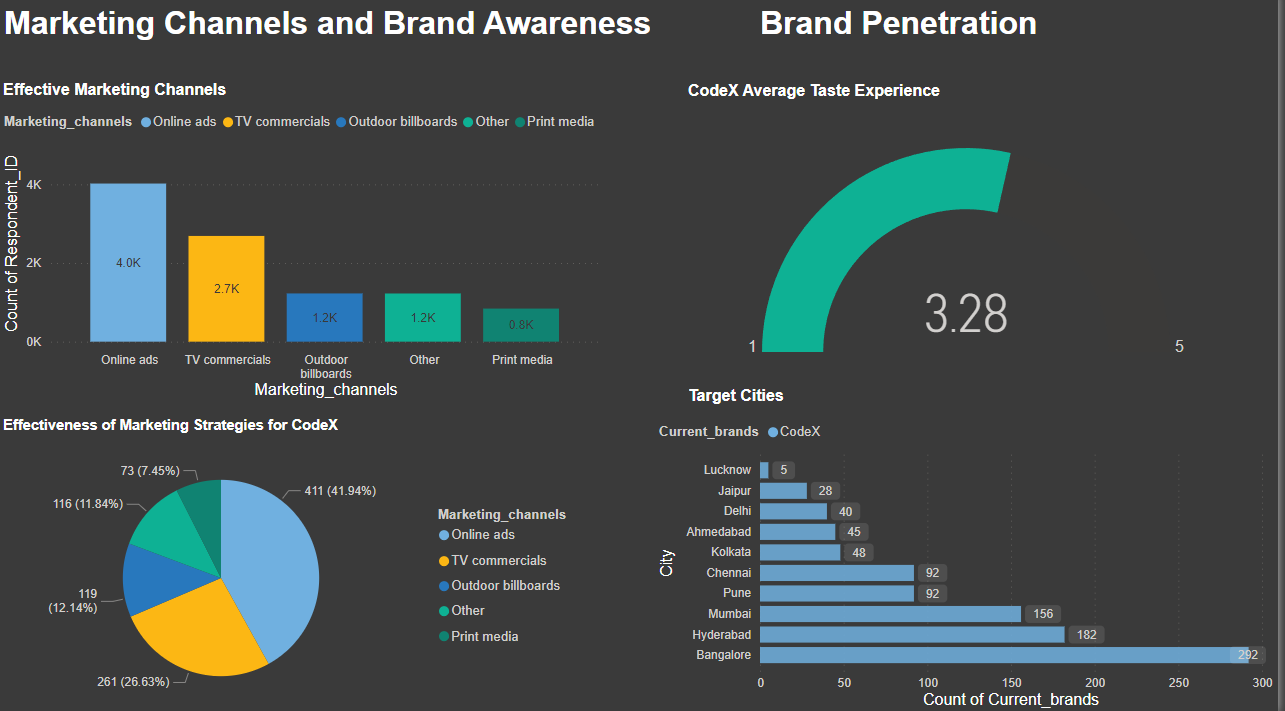

The dashboard page shown, as its layout file describes it:
{"tool":"powerbi","page":{"name":"Marketing Channels and Brand Awareness","canvas":[1280,720],"ordinal":2},"visuals":[{"type":"columnChart","fields":{"Category":["fact_survey_responses.Marketing_channels"],"Y":["CountNonNull(fact_survey_responses.Respondent_ID)"],"Series":["fact_survey_responses.Marketing_channels"]},"box":[1,109,607,301],"z":0},{"type":"pieChart","fields":{"Y":["CountNonNull(fact_survey_responses.Response_ID)"],"Category":["fact_survey_responses.Marketing_channels"]},"box":[1,450,586,270],"z":1000},{"type":"textbox","box":[1,7,670,61],"z":2000},{"type":"gauge","fields":{"MinValue":["Min(fact_survey_responses.Taste_experience)"],"MaxValue":["Max(fact_survey_responses.Taste_experience)1"],"Y":["Avg(fact_survey_responses.Taste_experience)2"]},"box":[731,150,474,219],"z":3000},{"type":"barChart","fields":{"Series":["fact_survey_responses.Current_brands"],"Category":["dim_cities.City","dim_cities.Tier"],"Y":["CountNonNull(fact_survey_responses.Current_brands)"]},"box":[656,419,624,301],"z":4000},{"type":"textbox","box":[757,7,470,53],"z":5000},{"type":"textbox","box":[685,389,300,38],"z":6000},{"type":"textbox","box":[0,83,264,35],"z":7000},{"type":"textbox","box":[0,419,412,31],"z":8000},{"type":"textbox","box":[685,84,300,34],"z":9000}]}

Visuals, with their boxes in screenshot pixels (x1, y1, x2, y2), scaled from the page's 1280x720 canvas onto the 1285x711 screenshot:
columnChart - fact_survey_responses.Marketing_channels x CountNonNull(fact_survey_responses.Respondent_ID): [left=1, top=108, right=610, bottom=405]
pieChart - CountNonNull(fact_survey_responses.Response_ID) x fact_survey_responses.Marketing_channels: [left=1, top=444, right=589, bottom=710]
textbox: [left=1, top=7, right=674, bottom=67]
gauge - Min(fact_survey_responses.Taste_experience) x Max(fact_survey_responses.Taste_experience)1: [left=734, top=148, right=1210, bottom=364]
barChart - fact_survey_responses.Current_brands x dim_cities.City: [left=659, top=414, right=1284, bottom=710]
textbox: [left=760, top=7, right=1232, bottom=59]
textbox: [left=688, top=384, right=989, bottom=422]
textbox: [left=0, top=82, right=265, bottom=117]
textbox: [left=0, top=414, right=414, bottom=444]
textbox: [left=688, top=83, right=989, bottom=117]
